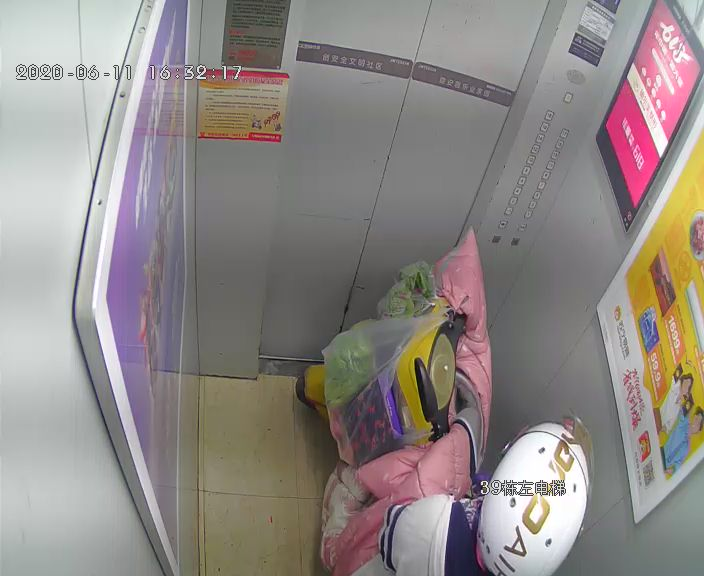Electric-bicycle: (295, 263, 479, 446)
